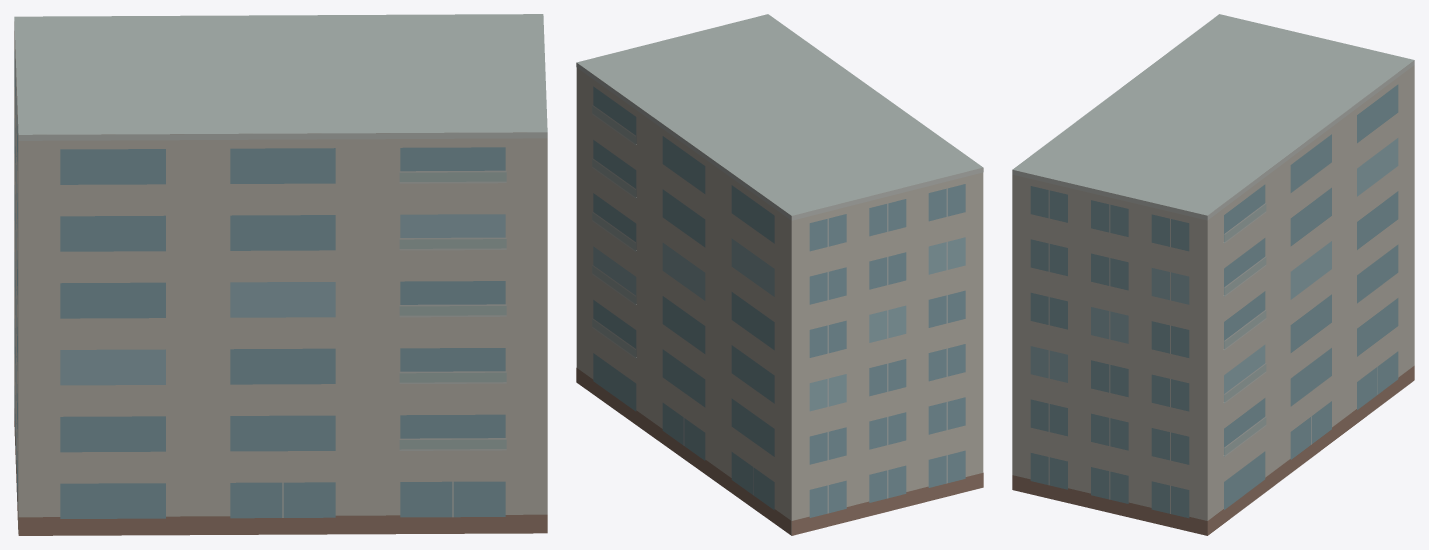
File: survey-upis-32739986.glb
The picture shows the model from 3 angles, left to right: view 1: azimuth 30°, elevation 25°; view 2: azimuth 150°, elevation 25°; view 3: azimuth 270°, elevation 25°; orthographic projection. The views are drawn at different scales.
Parts seen in each view (by area): view 1: survey-upis-32739986.tmp; view 2: survey-upis-32739986.tmp; view 3: survey-upis-32739986.tmp.
Boxes of the visible parts, left/top/right/bottom form: survey-upis-32739986.tmp: left=14, top=14, right=547, bottom=535; survey-upis-32739986.tmp: left=576, top=14, right=983, bottom=535; survey-upis-32739986.tmp: left=1012, top=14, right=1414, bottom=535.
Bounding box in the file's own units: 21.75 × 16.1 × 18.34.
